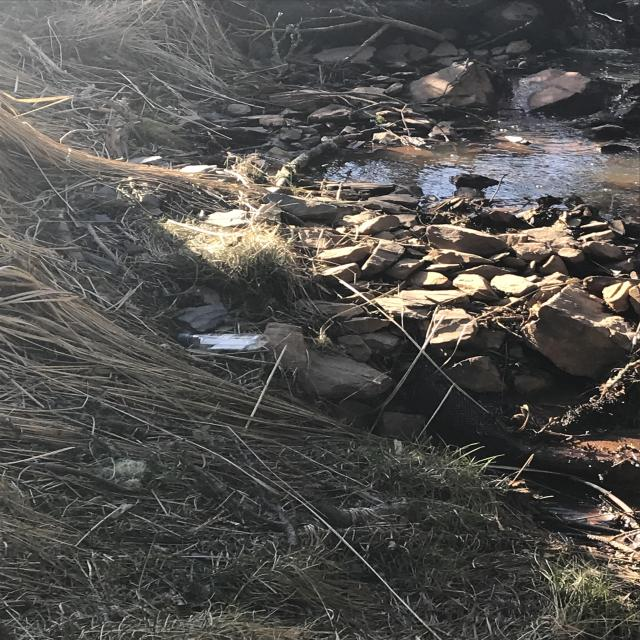litter: (444, 278, 468, 348)
